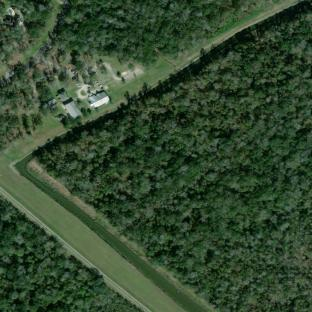Floresta: (38, 10, 312, 312), (0, 195, 140, 312), (56, 0, 270, 64)
